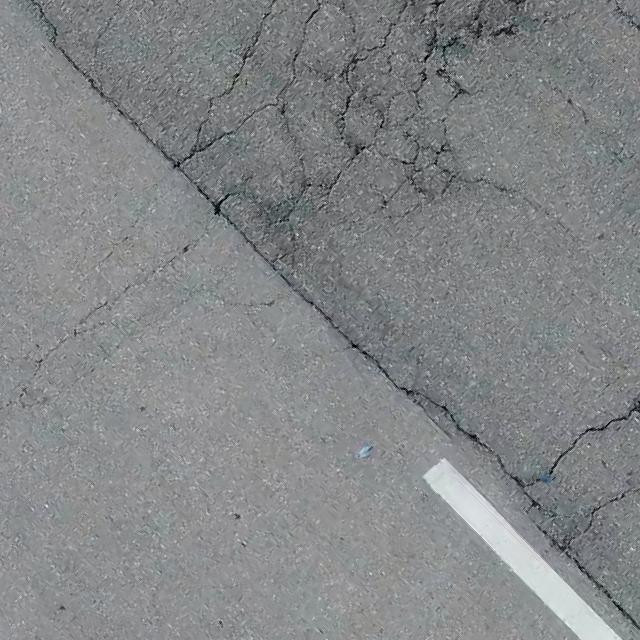GRIETA: (29, 0, 539, 507), (535, 524, 634, 627), (549, 396, 639, 476), (77, 256, 175, 325), (560, 486, 639, 550), (468, 176, 549, 216), (36, 334, 69, 371)
PIEL DE COCODRILO: (178, 0, 639, 264)
